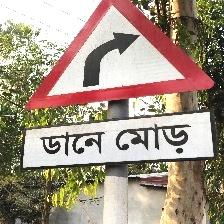Right-turn: (22, 2, 217, 169)
